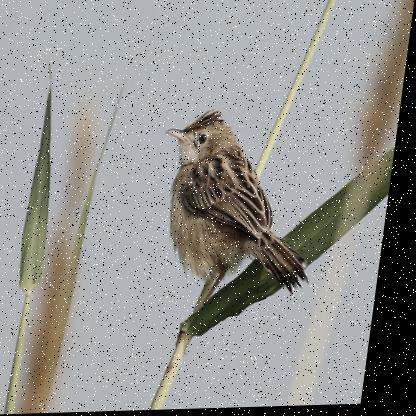Burung: (152, 108, 336, 300)
